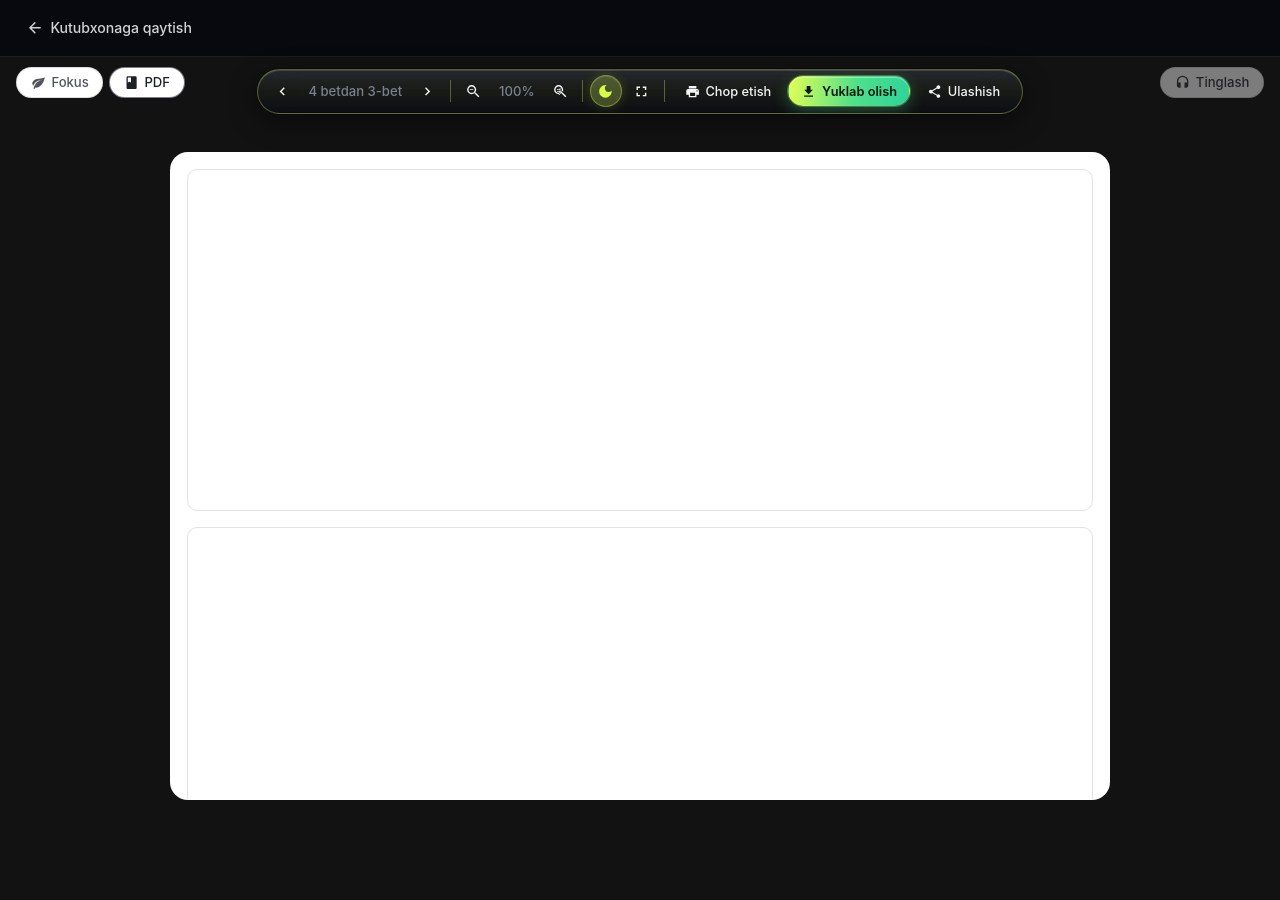
it: PdfReaderMode › navigates pages and persists progress
Expected: the text "4 betdan 3-bet" is shown, [303,83,408,99]
Step 1. Click the button named "Keyingi sahifa" → {"x": 428, "y": 91}, box [412,75,444,107]
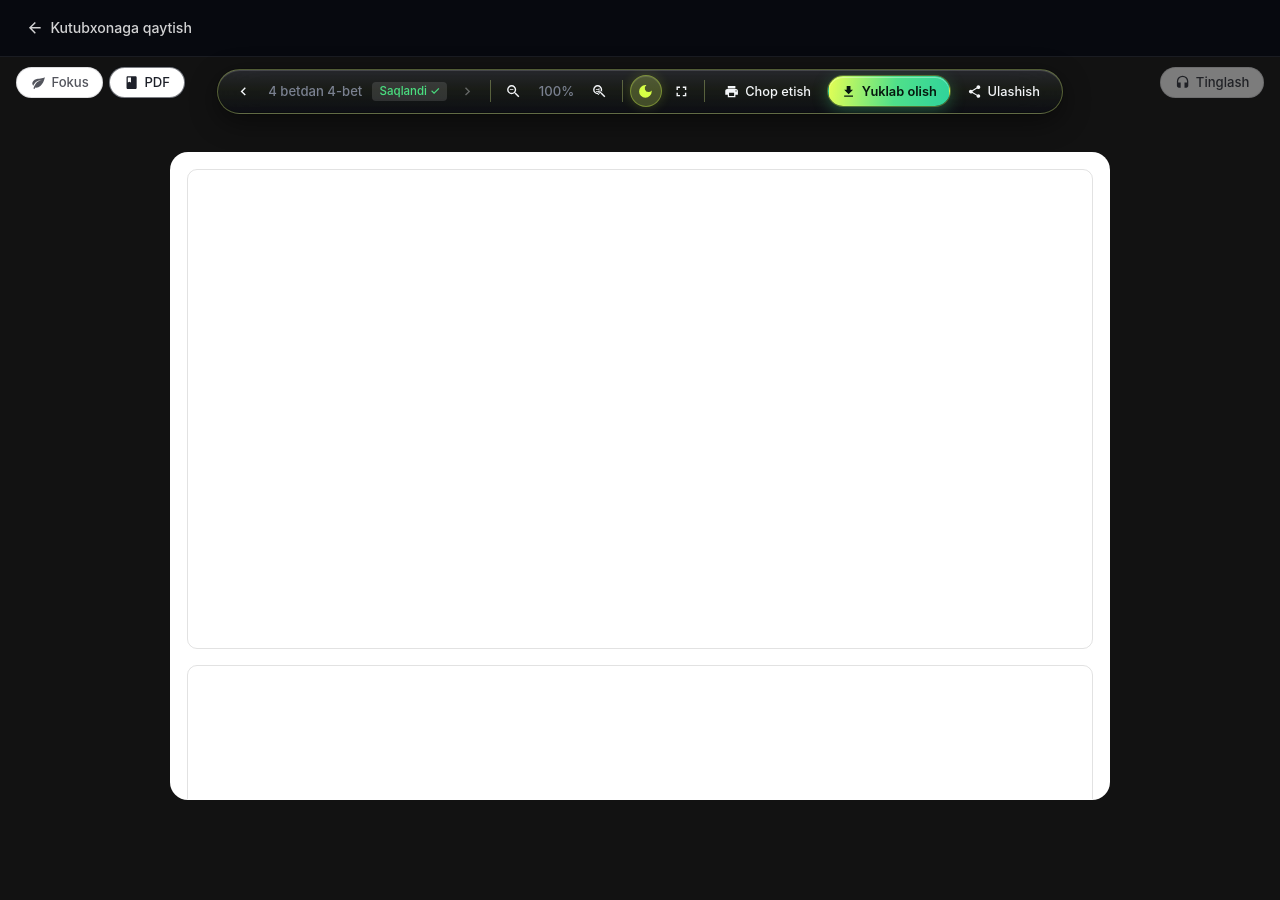
Expected: the text "4 betdan 4-bet" is shown, [263,83,368,99]
